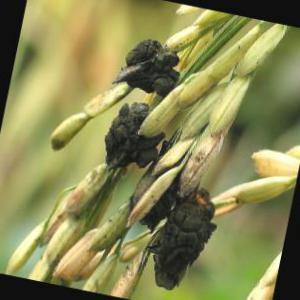False Smut: (151, 187, 221, 291), (105, 106, 155, 172), (129, 45, 168, 93)
